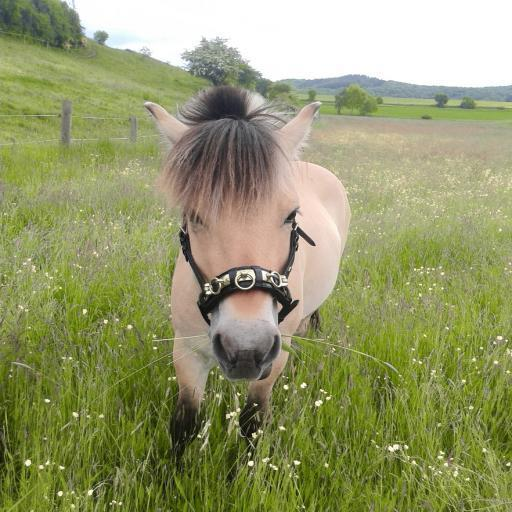horse: (140, 82, 352, 482)
